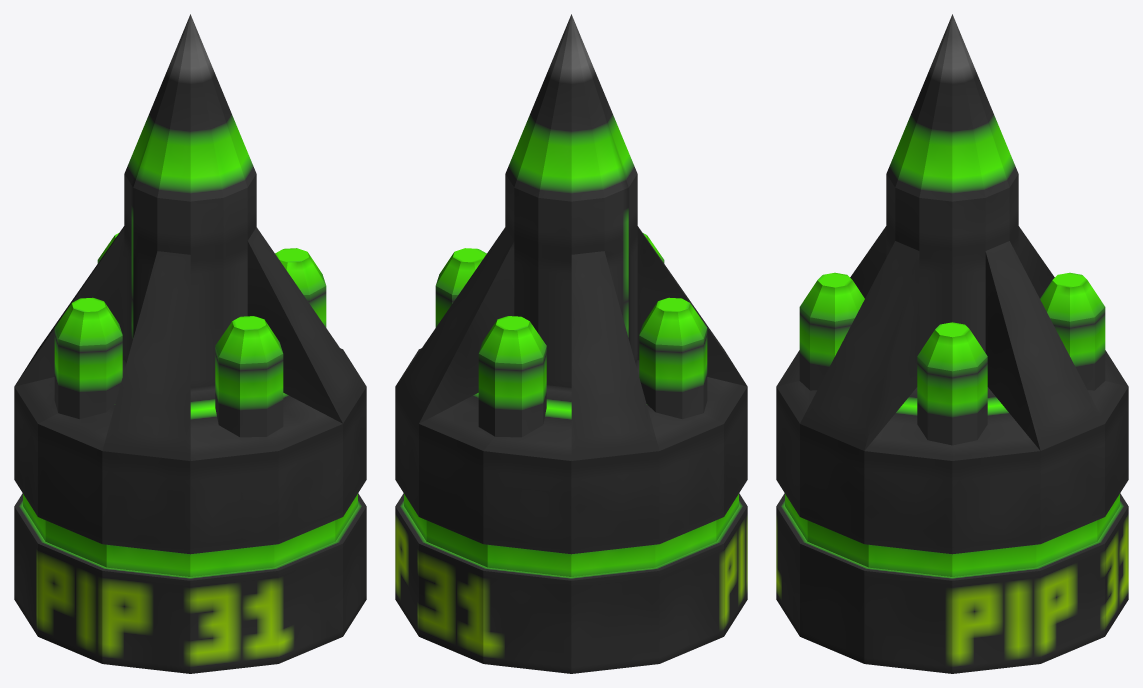
The model's file is mp_w_15_balefire.obj.
The picture shows the model from 3 angles, left to right: view 1: azimuth 30°, elevation 25°; view 2: azimuth 150°, elevation 25°; view 3: azimuth 270°, elevation 25°; orthographic projection.
Visible parts, largest first — view 1: Cylinder; view 2: Cylinder; view 3: Cylinder.
Part boxes in pixels (x1,y1,x2,y2): Cylinder: [14, 14, 366, 673]; Cylinder: [395, 14, 747, 673]; Cylinder: [776, 14, 1128, 673].
Bounding box in the file's own units: 1.5 × 2.75 × 1.5.
